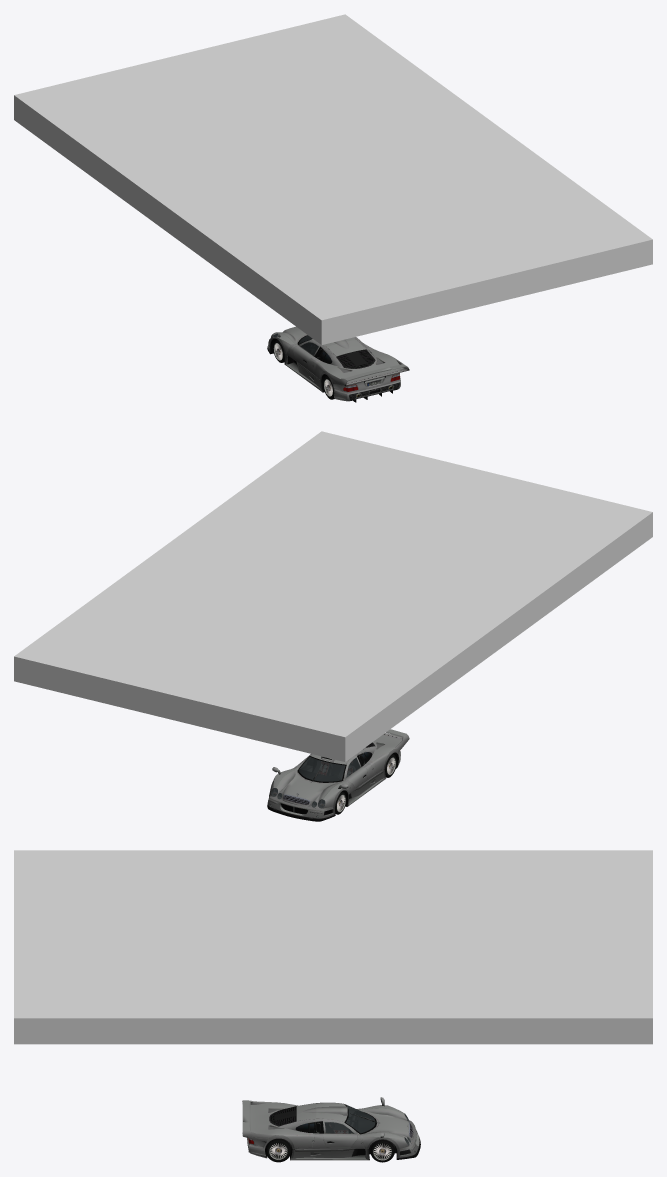
Rendered from clkgtr.obj.
3 views of the same model, one above another, from view 1: azimuth 30°, elevation 25°; view 2: azimuth 150°, elevation 25°; view 3: azimuth 270°, elevation 25° (orthographic). The views are drawn at different scales.
Parts seen in each view (by area): view 1: reflect_box01, part_44, part_43; view 2: reflect_box01, part_42, part_43, part_29, part_44, part_41, part_26; view 3: reflect_box01, part_44, part_43, part_42, part_32, part_41, part_35, part_26, part_34.
Boxes of the visible parts, x1,y1,x2,y2 form: reflect_box01: [14, 14, 652, 344]; part_44: [313, 340, 409, 402]; part_43: [284, 334, 370, 392]; reflect_box01: [14, 431, 652, 761]; part_42: [275, 769, 343, 806]; part_43: [292, 752, 386, 806]; part_29: [267, 788, 335, 821]; part_44: [358, 729, 409, 774]; part_41: [299, 758, 359, 781]; part_26: [299, 757, 345, 781]; reflect_box01: [14, 850, 652, 1044]; part_44: [242, 1100, 316, 1158]; part_43: [290, 1102, 378, 1160]; part_42: [361, 1108, 413, 1139]; part_32: [323, 1119, 357, 1147]; part_41: [325, 1111, 374, 1133]; part_35: [265, 1138, 291, 1162]; part_26: [346, 1105, 375, 1133]; part_34: [370, 1139, 394, 1162].
Size of the model in its own units: 10.24 by 6.05 by 16.47.
Materials: 4 (2 with a texture image).
